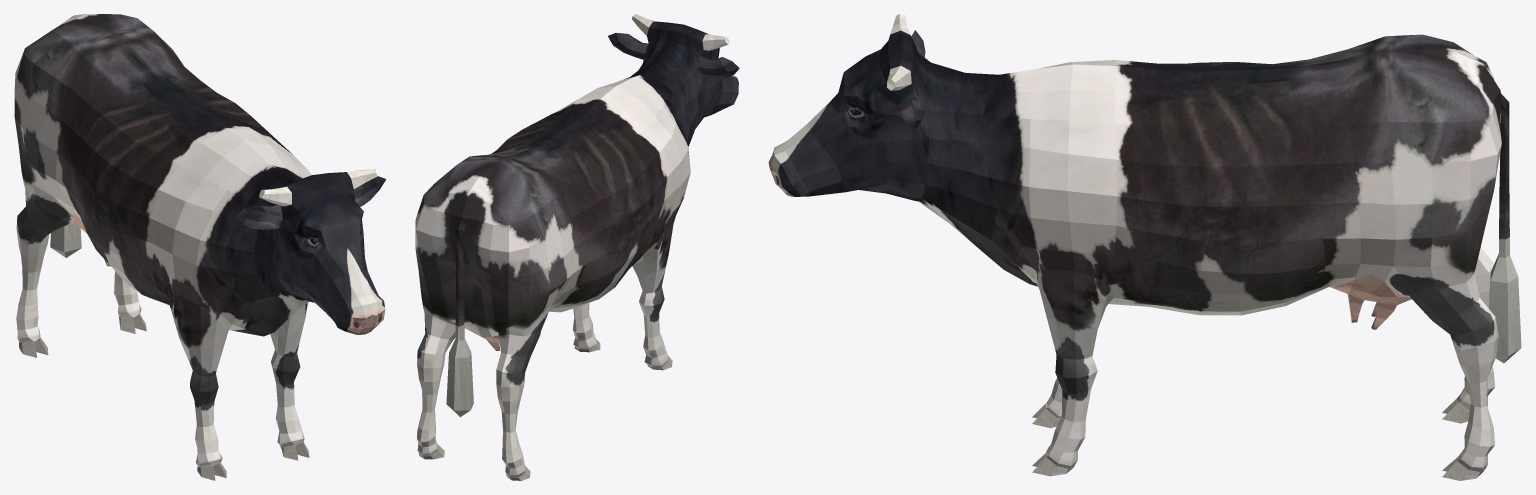
File: cow_1.obj
The picture shows the model from 3 angles, left to right: view 1: azimuth 30°, elevation 25°; view 2: azimuth 150°, elevation 25°; view 3: azimuth 270°, elevation 25°; orthographic projection. The views are drawn at different scales.
Parts seen in each view (by area): view 1: cow_body; view 2: cow_body; view 3: cow_body.
Boxes of the visible parts, bbox=[...] form: cow_body: bbox=[14, 14, 386, 480]; cow_body: bbox=[415, 14, 739, 480]; cow_body: bbox=[768, 14, 1521, 480].
Size of the model in its own units: 0.7323 by 1.39 by 2.36.
